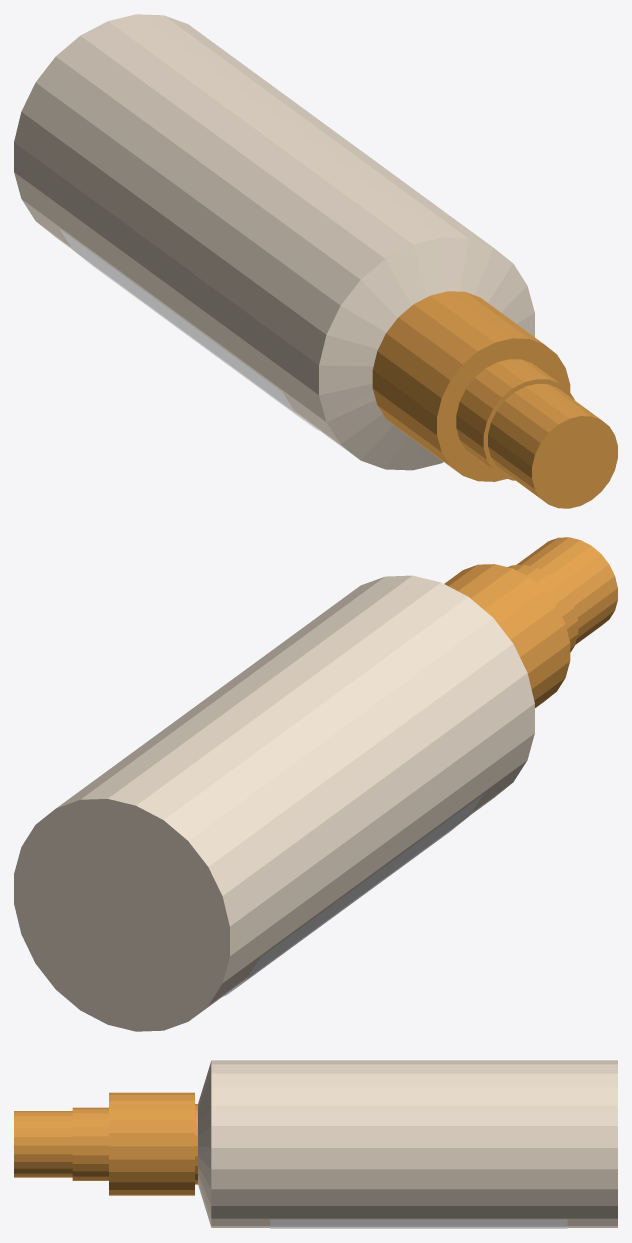
3 renders of one model, top to bottom at view 1: azimuth 30°, elevation 25°; view 2: azimuth 150°, elevation 25°; view 3: azimuth 270°, elevation 25°, orthographic. The views are drawn at different scales.
Visible parts, largest first — view 1: advance techniques stylizing spray; view 2: advance techniques stylizing spray; view 3: advance techniques stylizing spray.
Boxes of the visible parts, x1,y1,x2,y2 form: advance techniques stylizing spray: [14, 14, 617, 508]; advance techniques stylizing spray: [14, 537, 617, 1031]; advance techniques stylizing spray: [14, 1060, 617, 1228].
Size of the model in its own units: 1.85 by 1.86 by 6.72.
